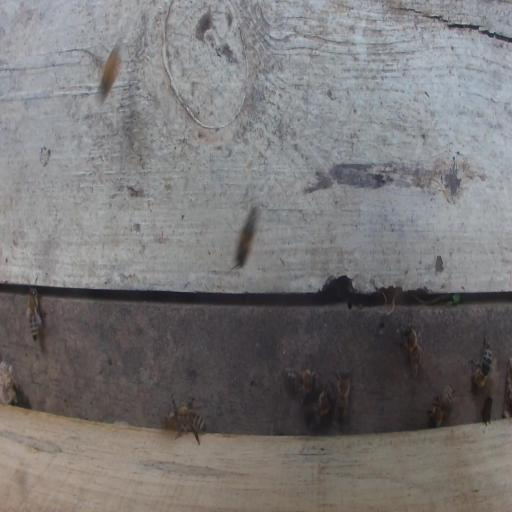bee: (165, 394, 205, 446), (232, 205, 258, 271), (98, 43, 122, 103), (398, 321, 423, 377), (468, 332, 492, 390), (304, 382, 334, 428), (25, 284, 46, 343), (426, 384, 454, 427), (334, 368, 351, 424), (284, 367, 319, 394), (318, 380, 334, 420), (480, 394, 493, 426)
